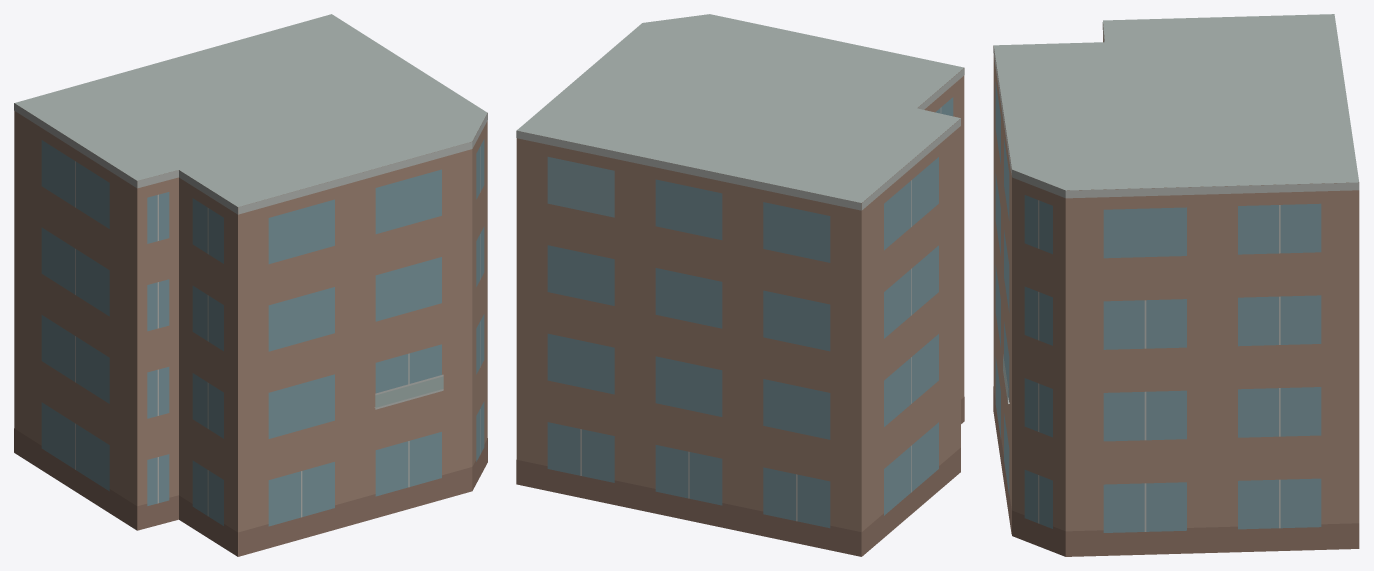
File: survey-upis-32696762.glb
3 renders of one model, left to right at view 1: azimuth 30°, elevation 25°; view 2: azimuth 150°, elevation 25°; view 3: azimuth 270°, elevation 25°, orthographic. The views are drawn at different scales.
Parts seen in each view (by area): view 1: survey-upis-32696762.tmp; view 2: survey-upis-32696762.tmp; view 3: survey-upis-32696762.tmp.
Part boxes in pixels (bbox=[...]): survey-upis-32696762.tmp: bbox=[14, 14, 487, 556]; survey-upis-32696762.tmp: bbox=[516, 14, 964, 556]; survey-upis-32696762.tmp: bbox=[993, 14, 1359, 556].
Size of the model in its own units: 11.73 by 11.35 by 10.28.
